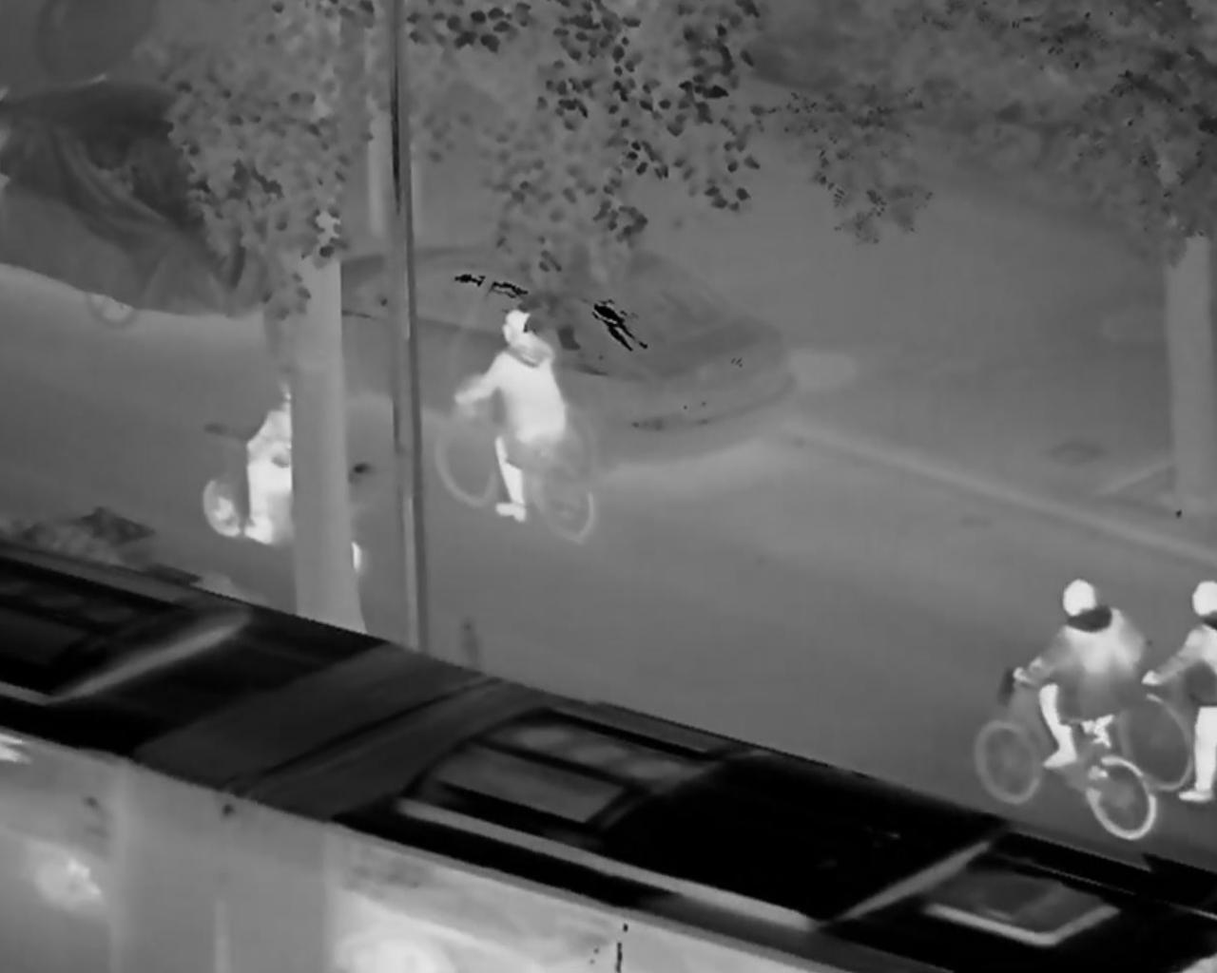person: (1010, 581, 1142, 768), (453, 313, 564, 522), (1142, 580, 1215, 805), (247, 370, 325, 557)
